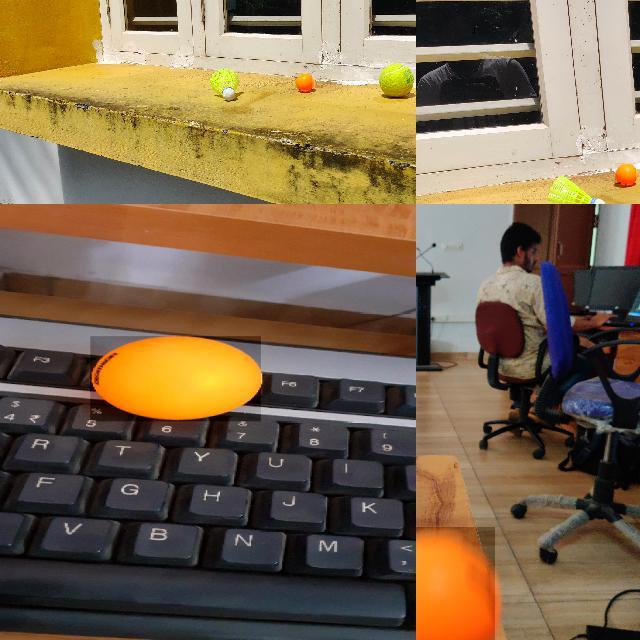ping-pong-ball: (90, 336, 262, 422), (416, 527, 497, 639), (615, 163, 637, 185), (295, 73, 313, 91)
